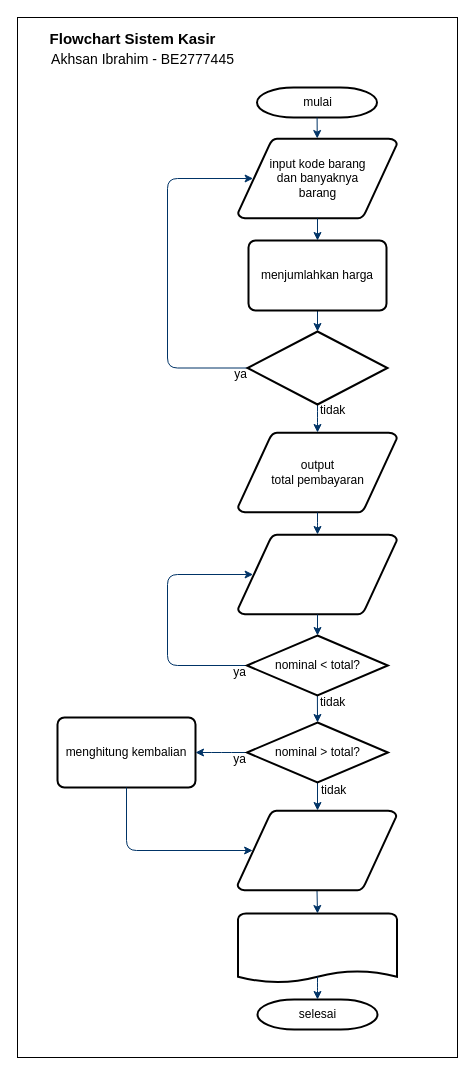
Some shapes in this 475 by 1075 pixel diagram are drawn without their labels. Each missing label, with the box of its shape:
ada barang lain?: (246, 330, 388, 405)
input nominal uang: (236, 533, 398, 615)
output setruk pembayaran: (236, 809, 397, 891)
setruk pembayan: (236, 912, 398, 984)
